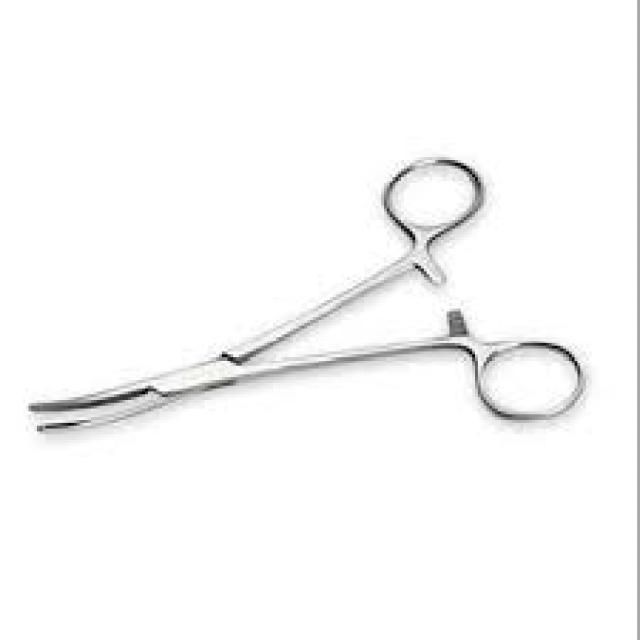Artery Forceps: (24, 146, 589, 456)
